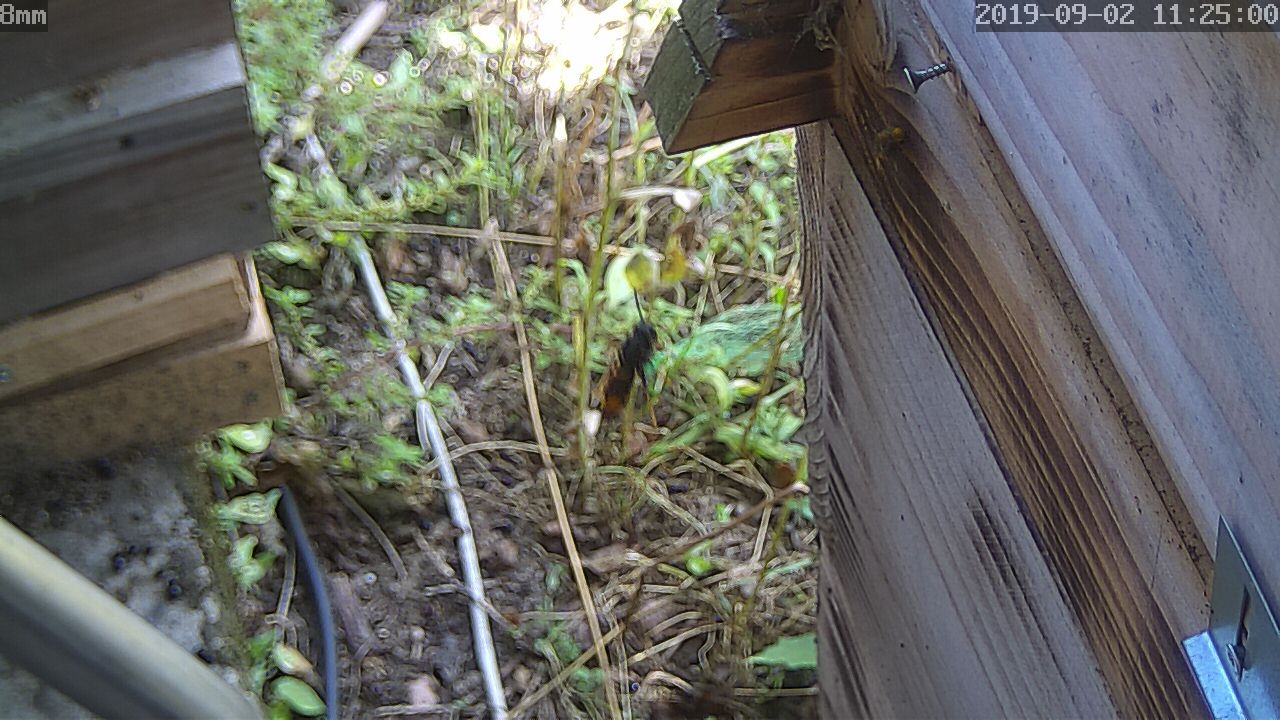hornet: (114, 0, 1265, 322)
